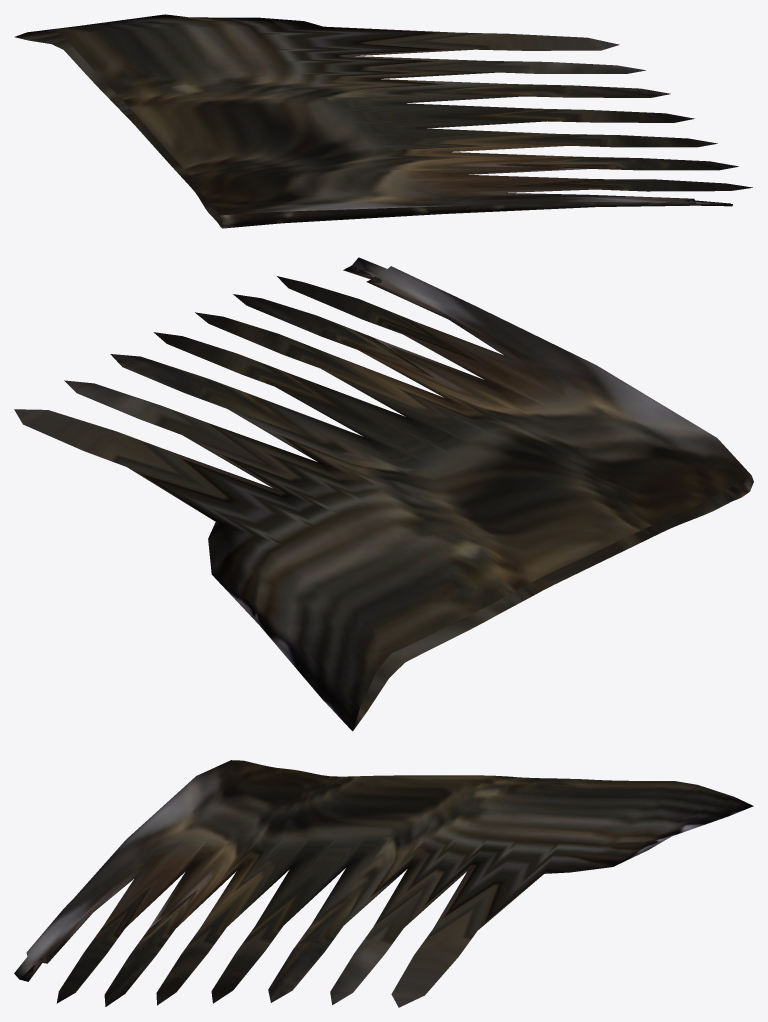
Rendered from left_wing_far.obj.
3 renders of one model, top to bottom at view 1: azimuth 30°, elevation 25°; view 2: azimuth 150°, elevation 25°; view 3: azimuth 270°, elevation 25°, orthographic. The views are drawn at different scales.
Parts seen in each view (by area): view 1: right-wings-inner_Plane.004; view 2: right-wings-inner_Plane.004; view 3: right-wings-inner_Plane.004.
Part boxes in pixels (bbox=[...]): right-wings-inner_Plane.004: bbox=[14, 14, 752, 228]; right-wings-inner_Plane.004: bbox=[14, 257, 753, 731]; right-wings-inner_Plane.004: bbox=[14, 760, 753, 1007].
Size of the model in its own units: 3.37 by 0.2481 by 4.38.
